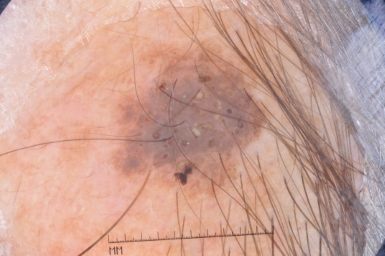seborrheic keratosis: (110, 62, 273, 187)
